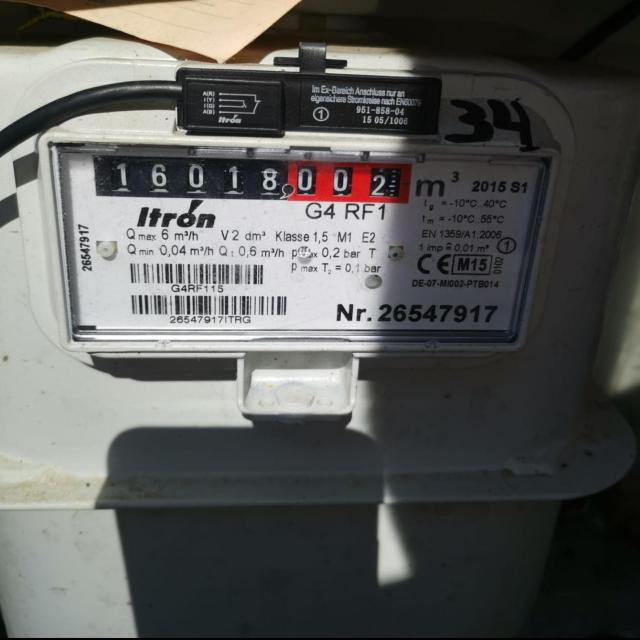gaz_meter: (49, 136, 528, 344)
indication: (94, 155, 415, 206)
